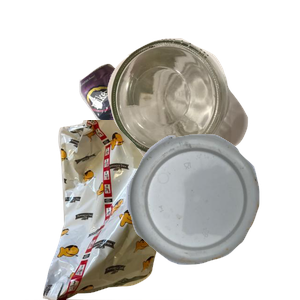glass: (105, 36, 300, 201)
metal: (77, 61, 222, 191)
plastic: (124, 132, 300, 300)
trash: (25, 120, 198, 300)
